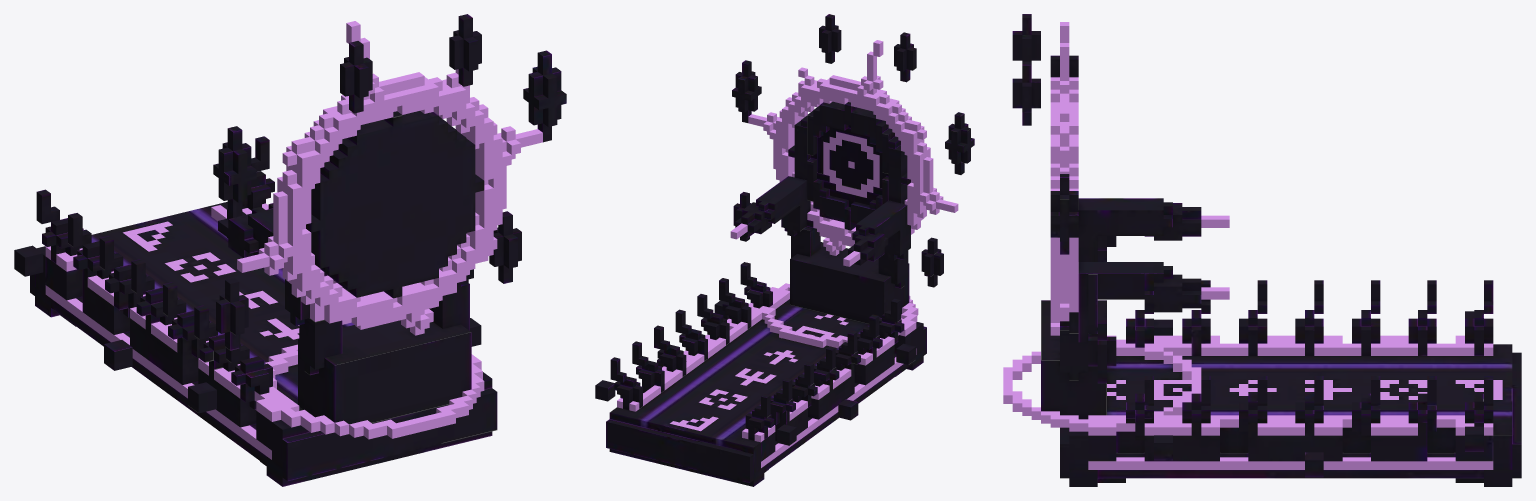
Rendered from void-eclipse.glb.
The picture shows the model from 3 angles, left to right: view 1: azimuth 30°, elevation 25°; view 2: azimuth 150°, elevation 25°; view 3: azimuth 270°, elevation 25°; orthographic projection. The views are drawn at different scales.
Parts seen in each view (by area): view 1: Body.009, Glow.009; view 2: Body.009, Glow.009; view 3: Body.009, Glow.009.
Boxes of the visible parts, box(x1,y1,x2,y2) form: Body.009: box(14, 14, 566, 486); Glow.009: box(45, 21, 542, 459); Body.009: box(595, 14, 974, 486); Glow.009: box(617, 40, 958, 467); Body.009: box(1012, 14, 1521, 486); Glow.009: box(1003, 22, 1502, 469).
Size of the model in its own units: 7.4 by 9.4 by 11.
2 materials, 1 textured.
